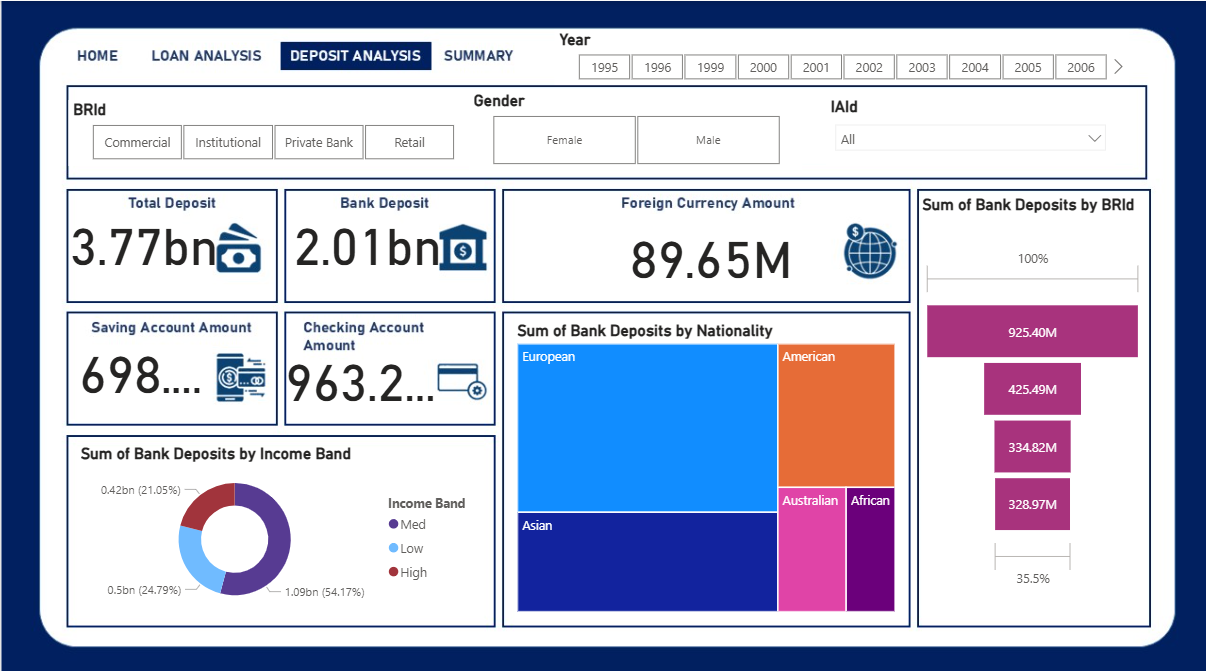

The dashboard page shown, as its layout file describes it:
{"tool":"powerbi","page":{"name":"Deposit Analysis","canvas":[1280,720],"ordinal":2},"visuals":[{"type":"card","fields":{"Values":["banking_case customer.Total Deposit"]},"box":[62,211.6,178.1,84.3],"z":0},{"type":"card","fields":{"Values":["Sum(banking_case customer.Bank Deposits)"]},"box":[299,211.6,178.1,84.3],"z":1000},{"type":"card","fields":{"Values":["Sum(banking_case customer.Saving Accounts)"]},"box":[65.2,346.8,163.8,84.3],"z":2000},{"type":"card","fields":{"Values":["Sum(banking_case customer.Checking Accounts)"]},"box":[291.1,362.7,178.1,70],"z":3000},{"type":"donutChart","fields":{"Category":["banking_case customer.Income Band"],"Y":["Sum(banking_case customer.Bank Deposits)"]},"box":[79.5,469.2,435.8,182.9],"z":4000},{"type":"treemap","fields":{"Group":["banking_case customer.Nationality"],"Values":["Sum(banking_case customer.Bank Deposits)"]},"box":[542.4,338.8,410.4,313.4],"z":5000},{"type":"funnel","fields":{"Category":["banking_case customer.BRId"],"Y":["Sum(banking_case customer.Bank Deposits)"]},"box":[971.9,205.2,243.4,453.3],"z":6000},{"type":"slicer","title":"BRId","fields":{"Values":["banking_case customer.BRId"]},"box":[71.6,105,432.6,70],"z":7000},{"type":"slicer","title":"Gender","fields":{"Values":["banking_case customer.GenderId"]},"box":[496.3,95.4,353.1,84.3],"z":8000},{"type":"slicer","title":"IAId","fields":{"Values":["banking_case customer.IAId"]},"box":[874.8,101.8,307,73.2],"z":9000},{"type":"actionButton","box":[62,39.8,81.1,35],"z":10000},{"type":"actionButton","box":[143.2,39.8,159.1,35],"z":11000},{"type":"actionButton","box":[466,39.8,81.1,35],"z":12000},{"type":"slicer","title":"Year","fields":{"Values":["banking_case customer.Year of Joining"]},"box":[586.9,30.2,609.2,58.9],"z":13000},{"type":"card","fields":{"Values":["banking_case customer.TotalForeignCurrencyBalance"]},"box":[631.5,225.9,241.8,82.7],"z":14000}]}

Visuals, with their boxes in screenshot pixels (x1, y1, x2, y2), scaled from the page's 1280x720 canvas onto the 1206x671 screenshot:
card - banking_case customer.Total Deposit: region(58, 197, 226, 276)
card - Sum(banking_case customer.Bank Deposits): region(282, 197, 450, 276)
card - Sum(banking_case customer.Saving Accounts): region(61, 323, 216, 402)
card - Sum(banking_case customer.Checking Accounts): region(274, 338, 442, 403)
donutChart - banking_case customer.Income Band x Sum(banking_case customer.Bank Deposits): region(75, 437, 486, 608)
treemap - banking_case customer.Nationality x Sum(banking_case customer.Bank Deposits): region(511, 316, 898, 608)
funnel - banking_case customer.BRId x Sum(banking_case customer.Bank Deposits): region(916, 191, 1145, 614)
"BRId" slicer: region(67, 98, 475, 163)
"Gender" slicer: region(468, 89, 800, 167)
"IAId" slicer: region(824, 95, 1113, 163)
actionButton: region(58, 37, 135, 70)
actionButton: region(135, 37, 285, 70)
actionButton: region(439, 37, 515, 70)
"Year" slicer: region(553, 28, 1127, 83)
card - banking_case customer.TotalForeignCurrencyBalance: region(595, 211, 823, 288)
